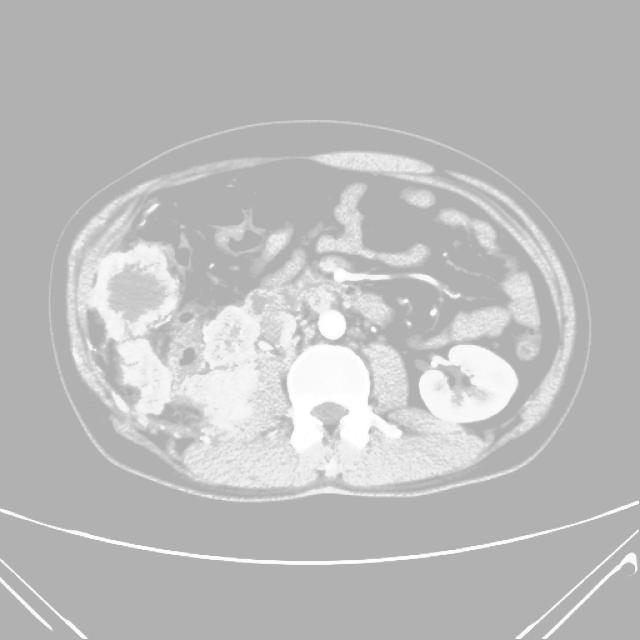TUMOR: (132, 207, 530, 470)
